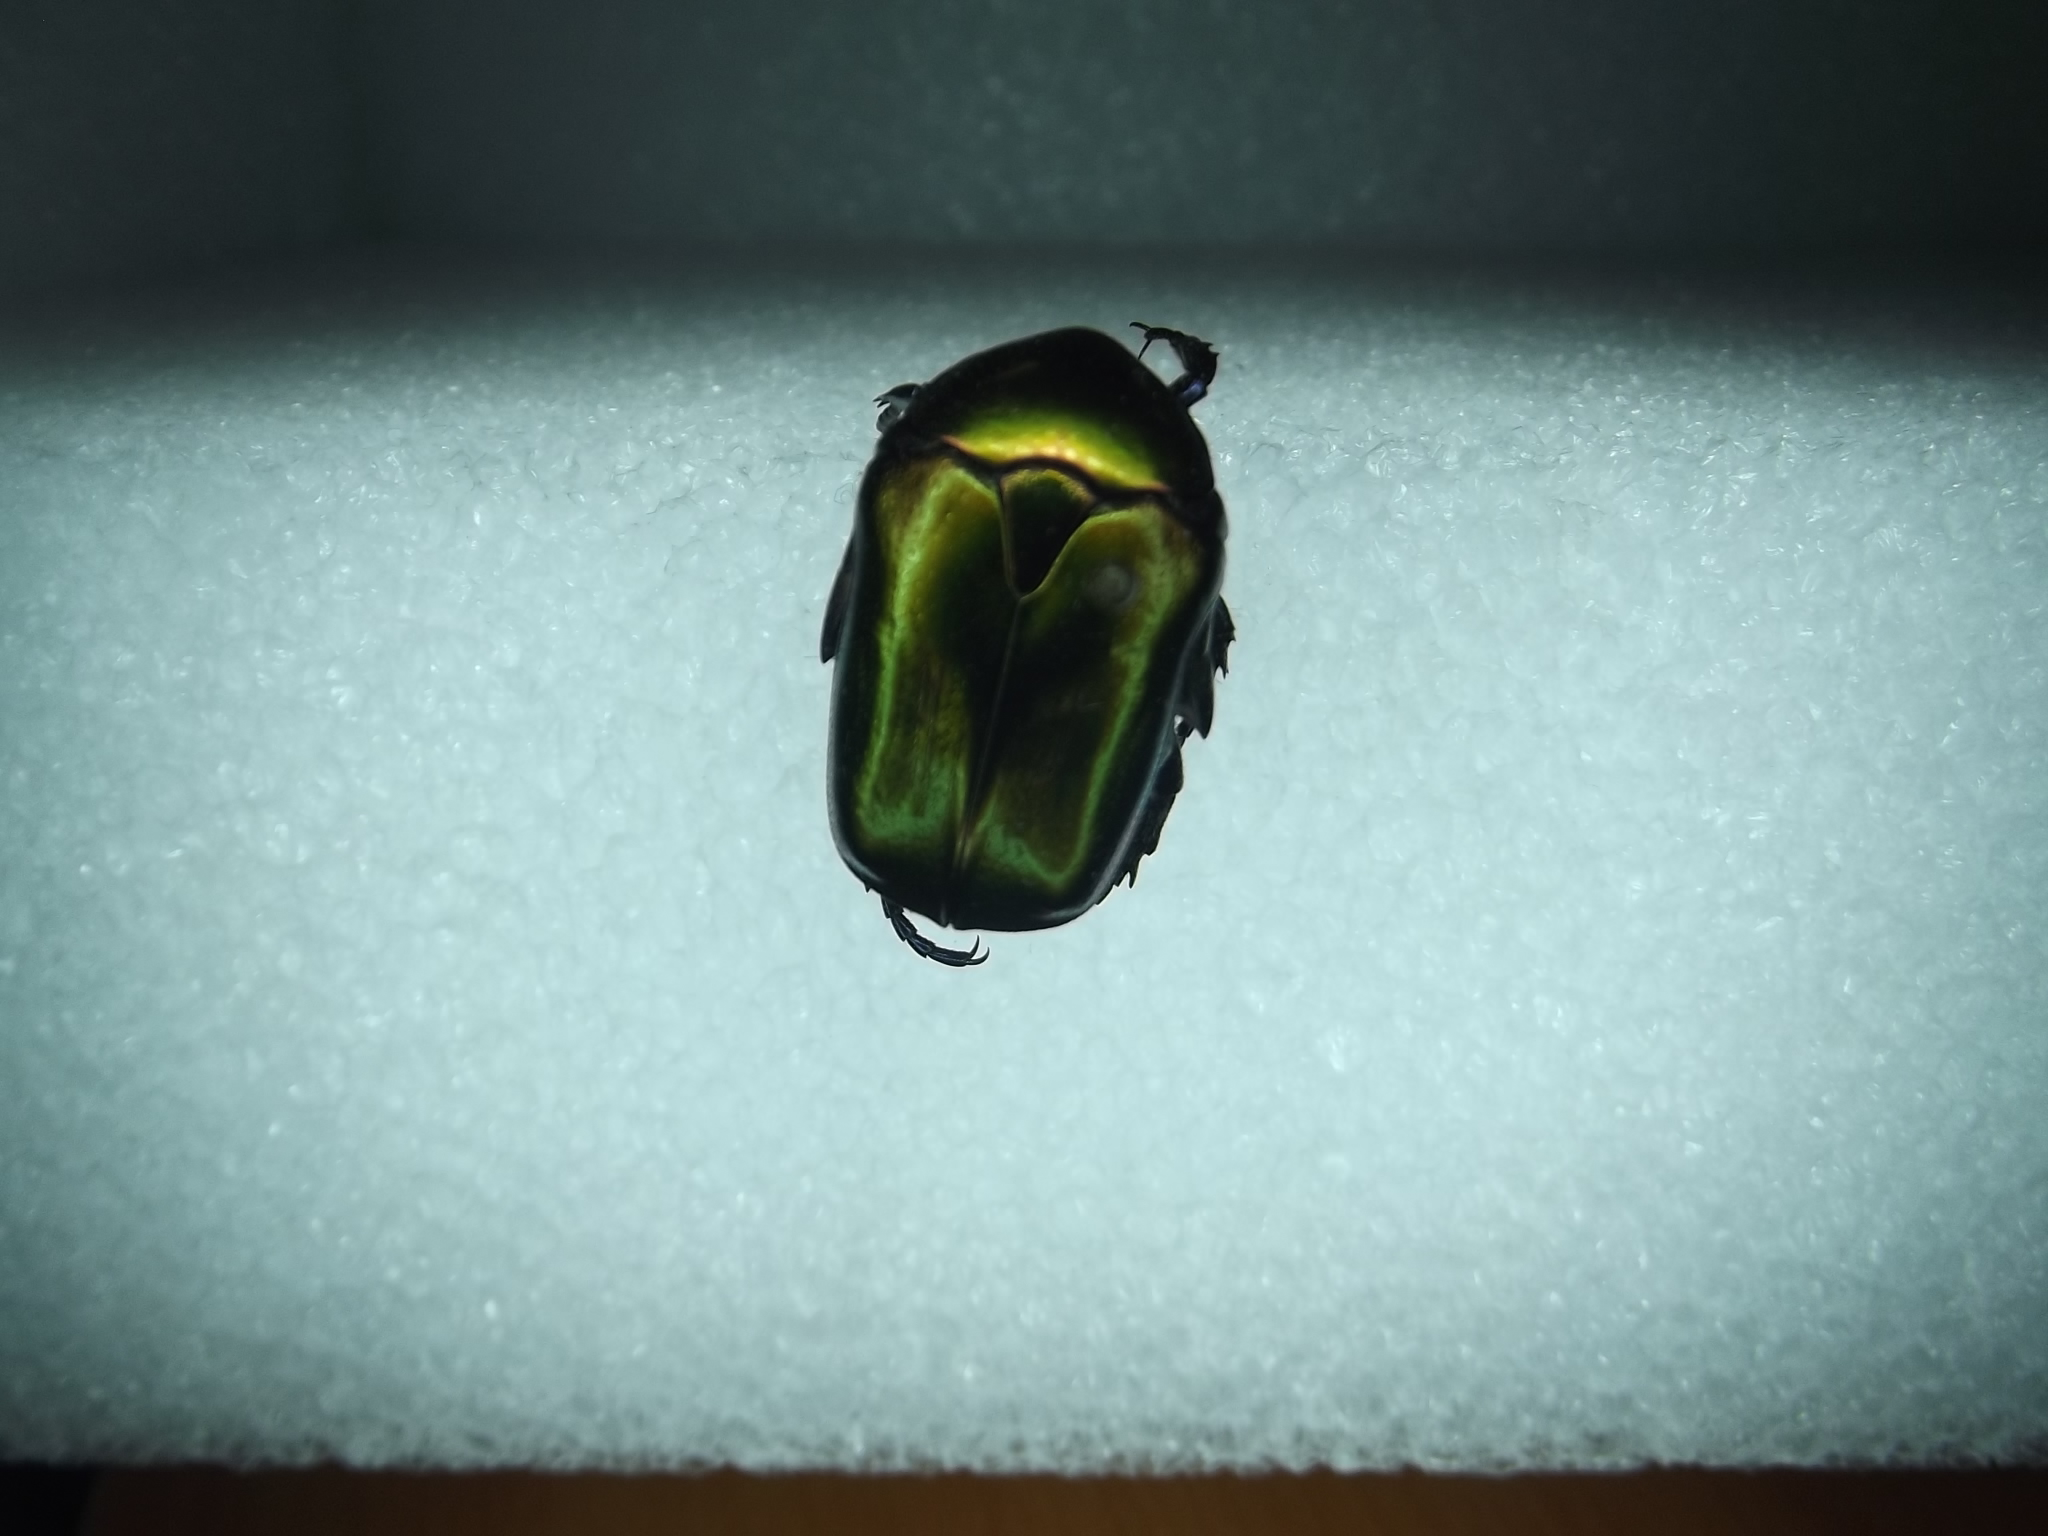Protaetia_cuprea_ignicollis: (813, 287, 1250, 994), (822, 290, 834, 310)
